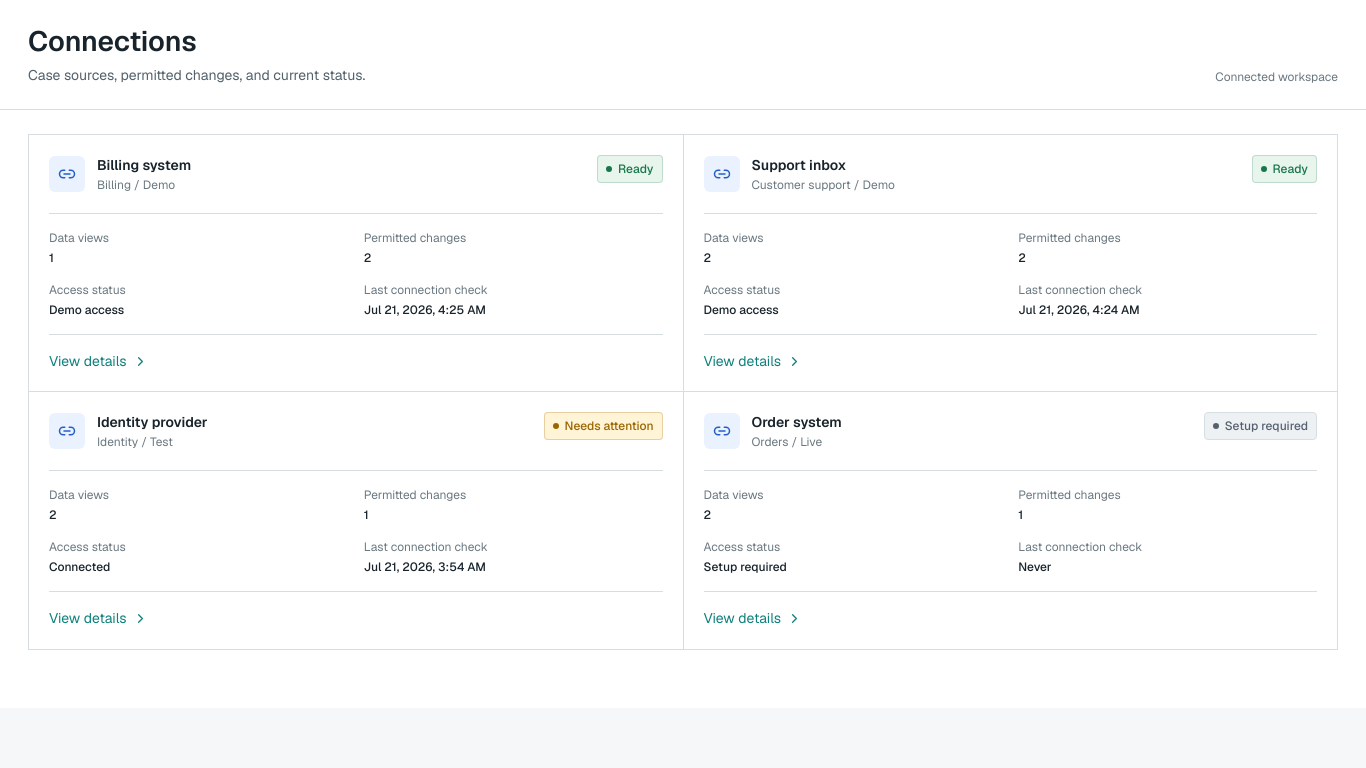
Test case: administration pages › inspects connection capabilities and returns a backend command result
Click the button "View details" below "Jul 21, 2026, 4:25 AM" at point(98, 361), box [49,351,148,371]
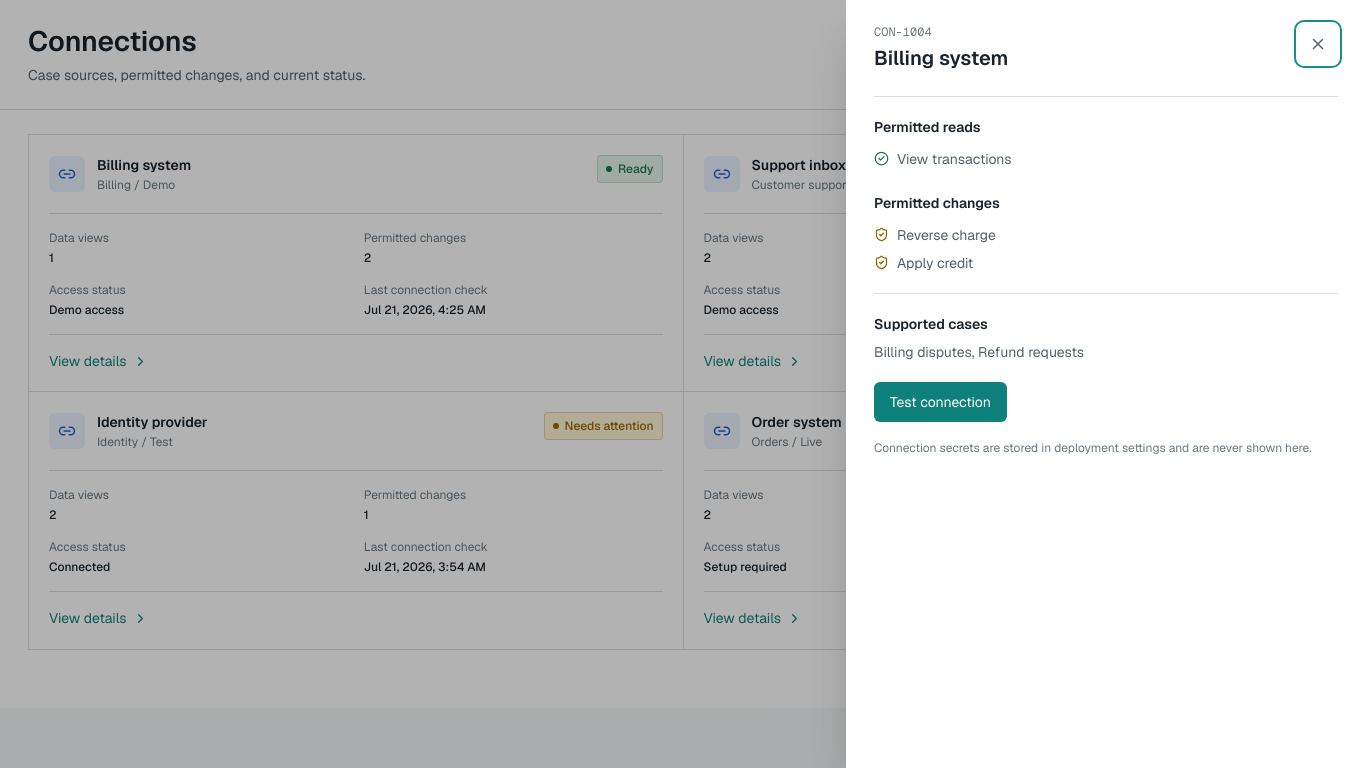
expect the dialog named "Billing system connection details" is shown: met, box [846,0,1365,767]
expect the list item "View transactions" is shown: met, box [874,150,1012,168]
Click the button "Test connection" at point(940, 402), box [874,382,1007,422]
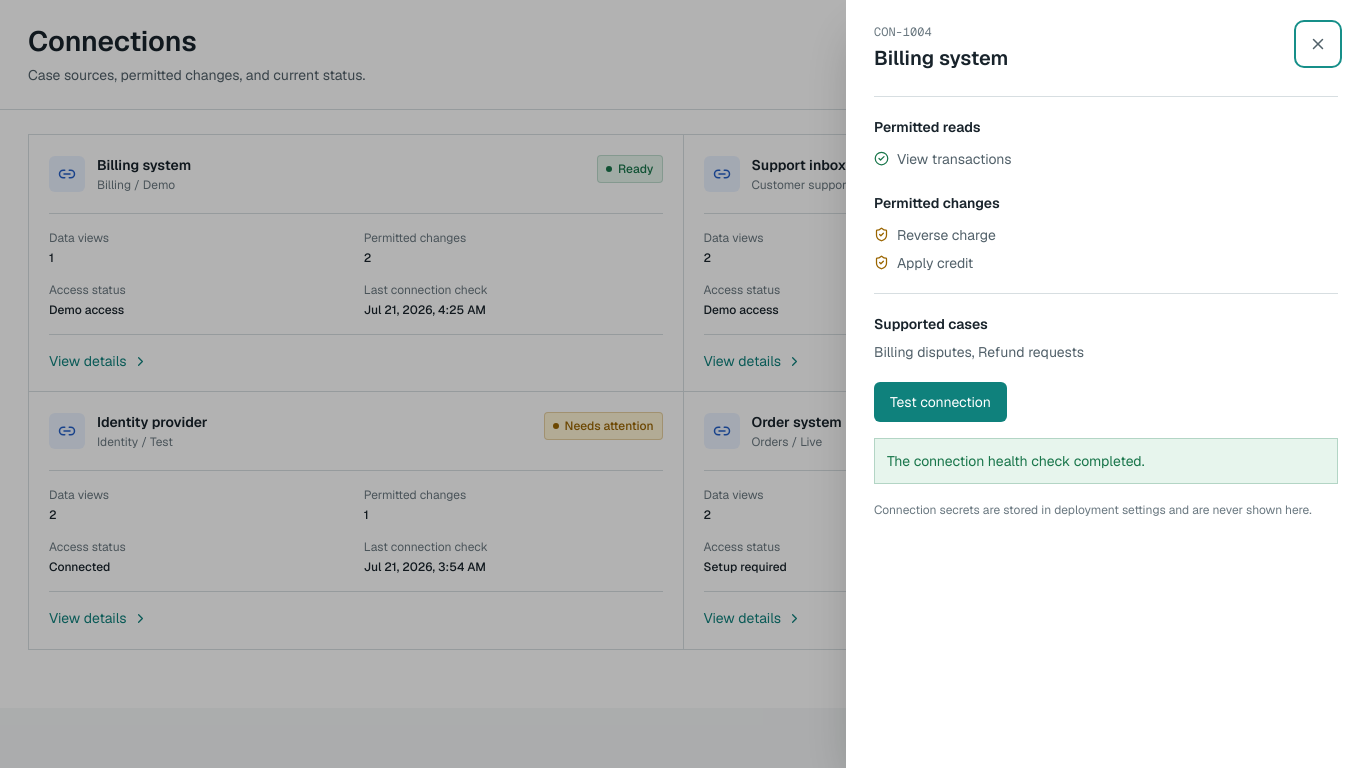
expect the message shows "health check completed": met, box [887,452,1144,470]
Press Escape
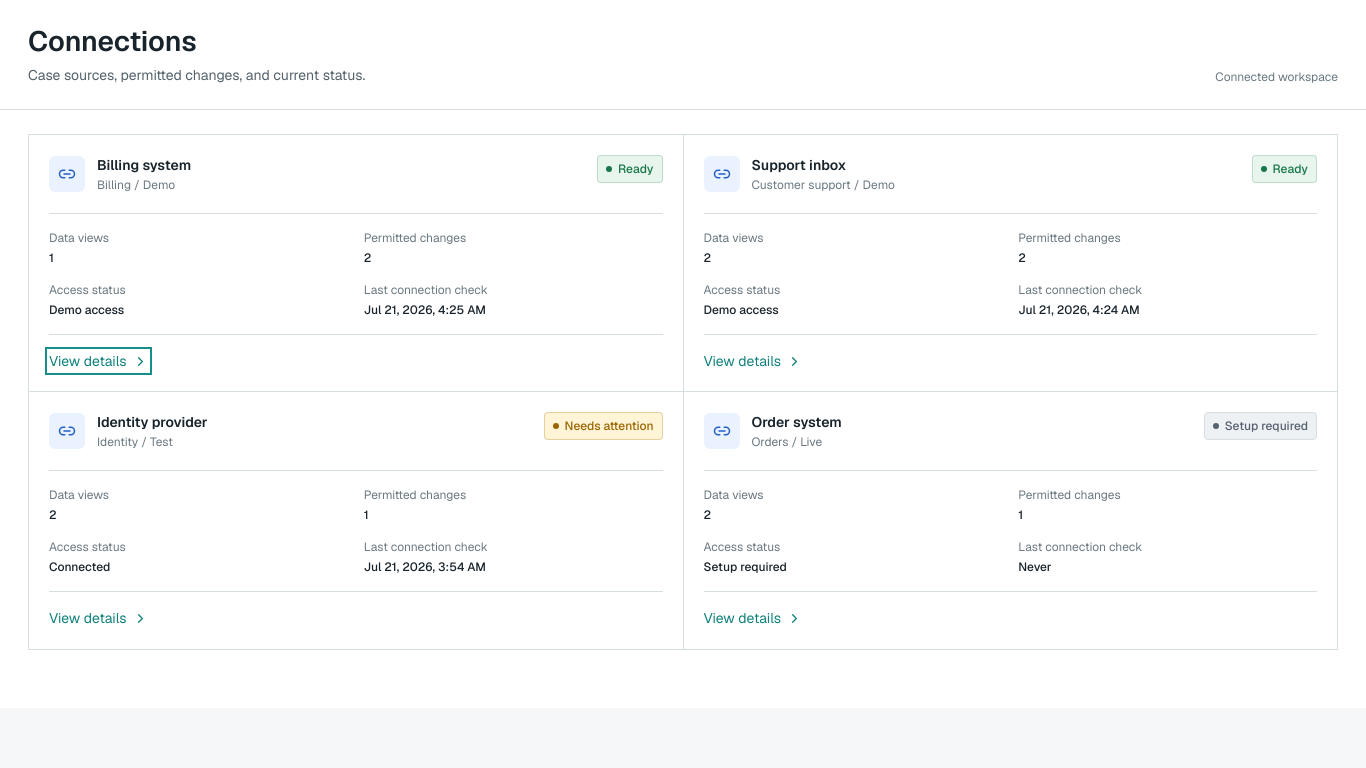
expect the dialog is gone: met
